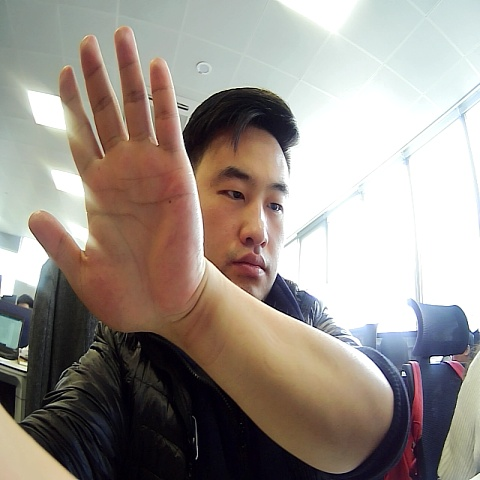palm: (24, 22, 208, 337)
